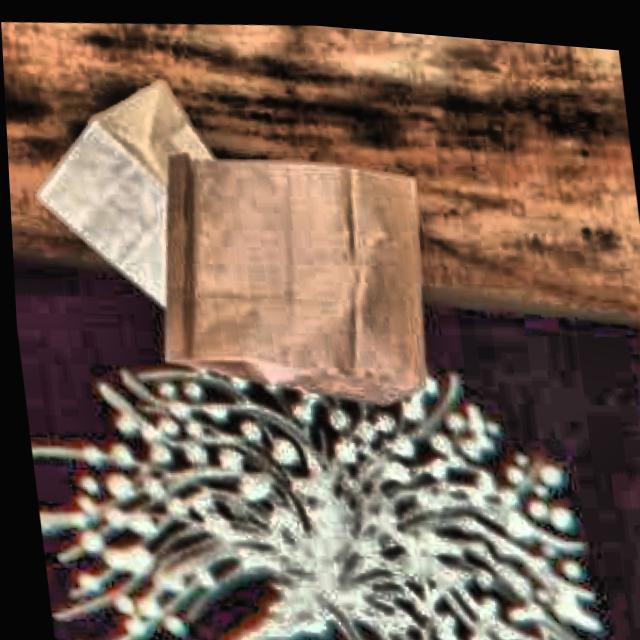Paper-bag: (126, 110, 457, 436), (31, 58, 285, 365)
